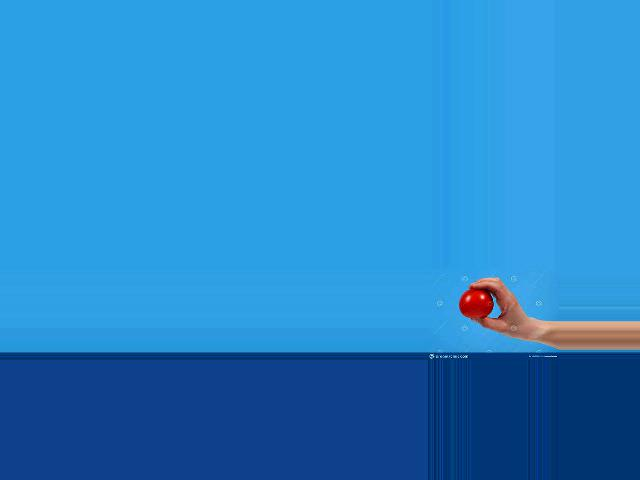tomato: (459, 288, 493, 318)
